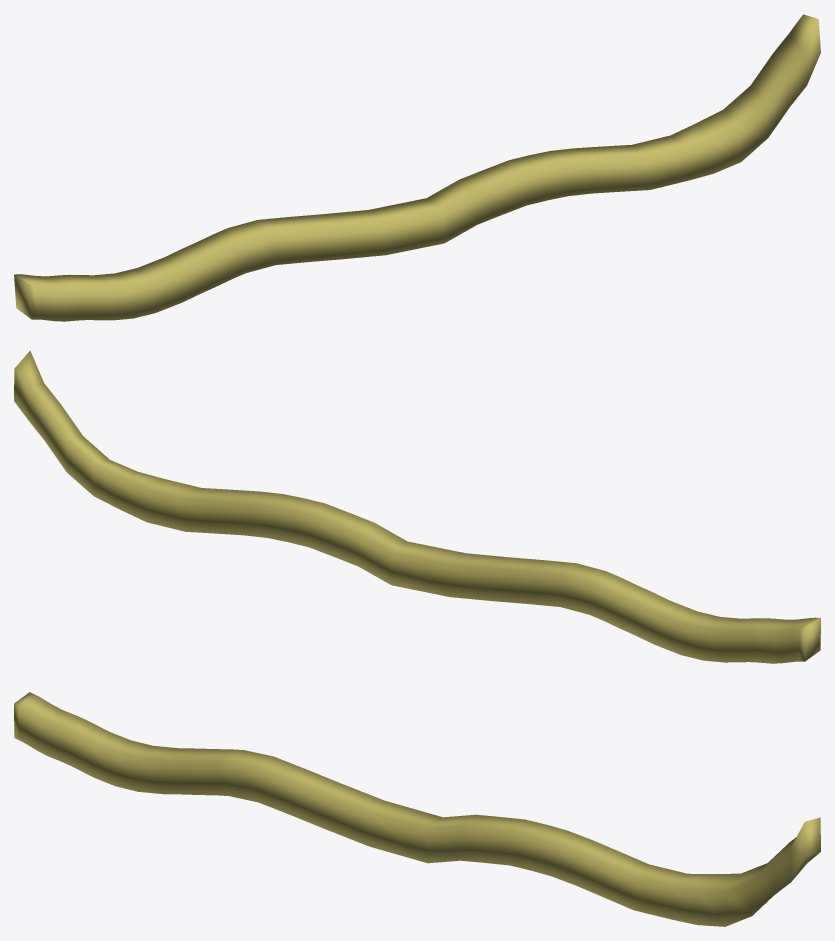
File: Collider1.fbx
The picture shows the model from 3 angles, top to bottom: view 1: azimuth 30°, elevation 25°; view 2: azimuth 150°, elevation 25°; view 3: azimuth 330°, elevation 25°; orthographic projection.
Parts seen in each view (by area): view 1: MapaDesert.001; view 2: MapaDesert.001; view 3: MapaDesert.001.
Part boxes in pixels (x1=…): MapaDesert.001: x1=14, y1=14, x2=820, y2=321; MapaDesert.001: x1=14, y1=350, x2=820, y2=663; MapaDesert.001: x1=14, y1=692, x2=820, y2=926.
Size of the model in its own units: 10996 by 1757 by 402.
